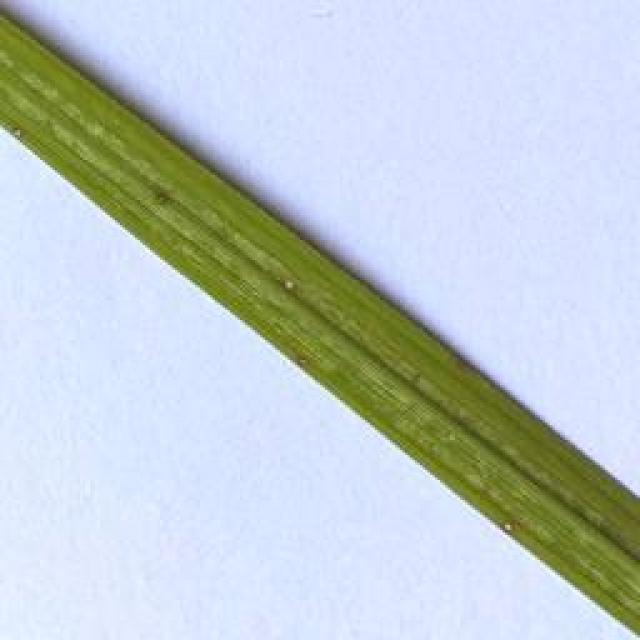Unhealthy: (450, 352, 473, 373), (153, 188, 171, 207), (282, 277, 299, 292), (498, 521, 514, 535), (11, 128, 21, 142), (296, 355, 306, 368)
